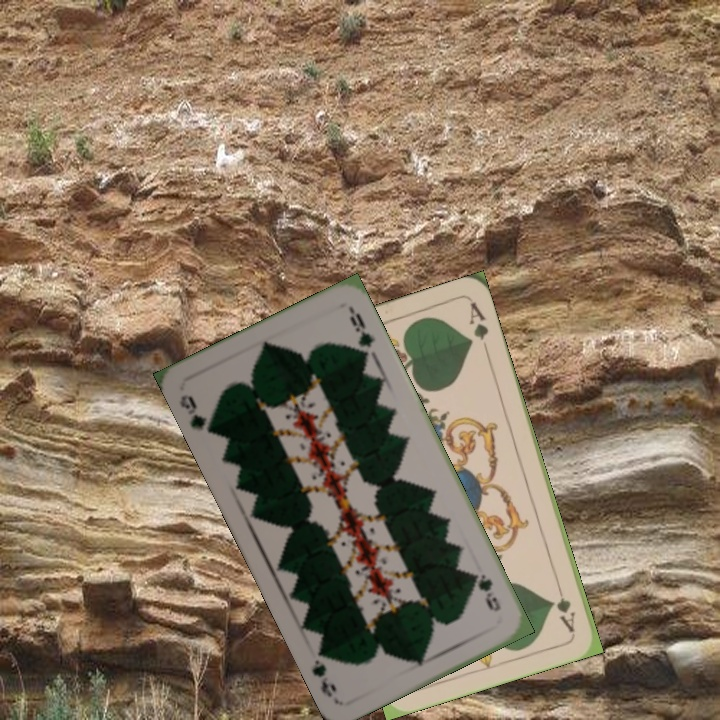G9: (175, 390, 220, 437), (467, 569, 504, 615)
GA: (551, 577, 578, 635)
